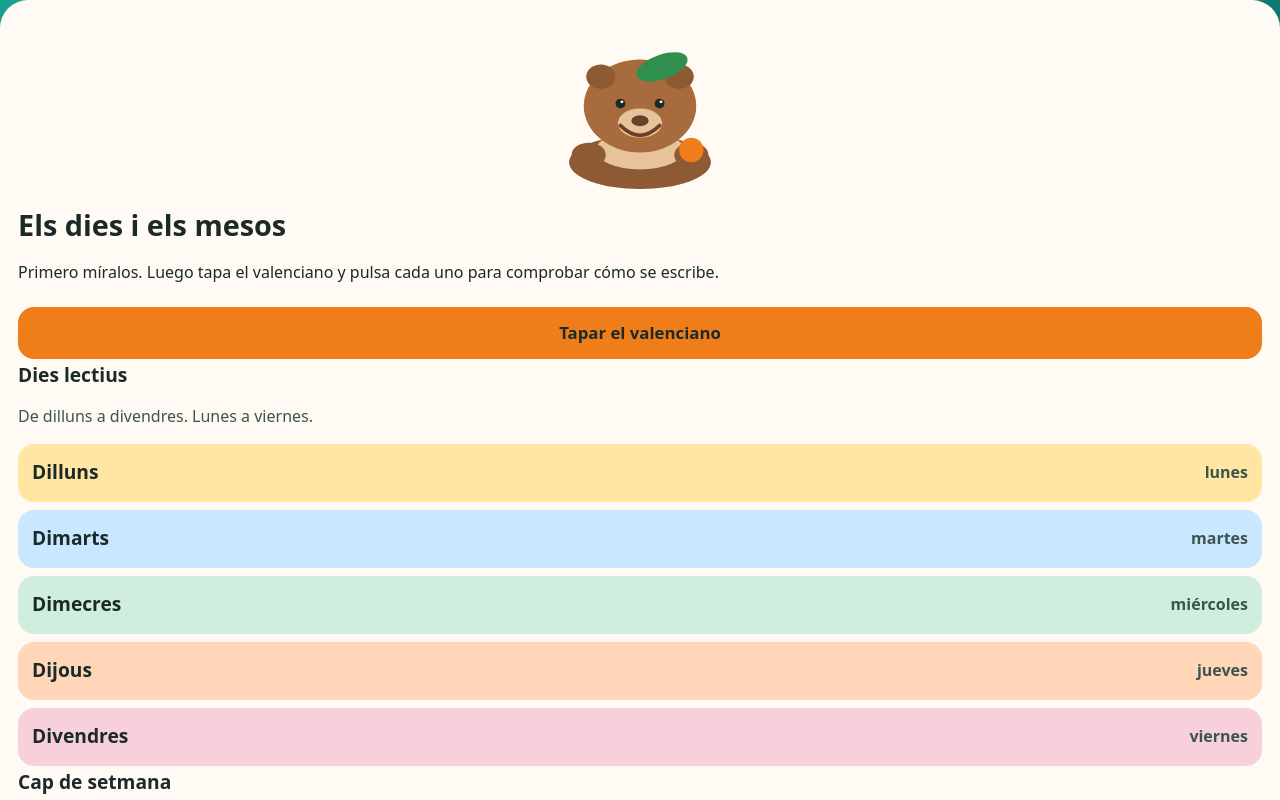
Test case: dies i mesos › tapa el valenciano de la ficha y lo vuelve a enseñar
This screenshot has width=1280, height=800.
Expected: the button "Dilluns lunes" is shown, [18, 444, 1262, 502]
Click the button "Tapar el valenciano".
click(640, 333)  # box [18, 307, 1262, 359]
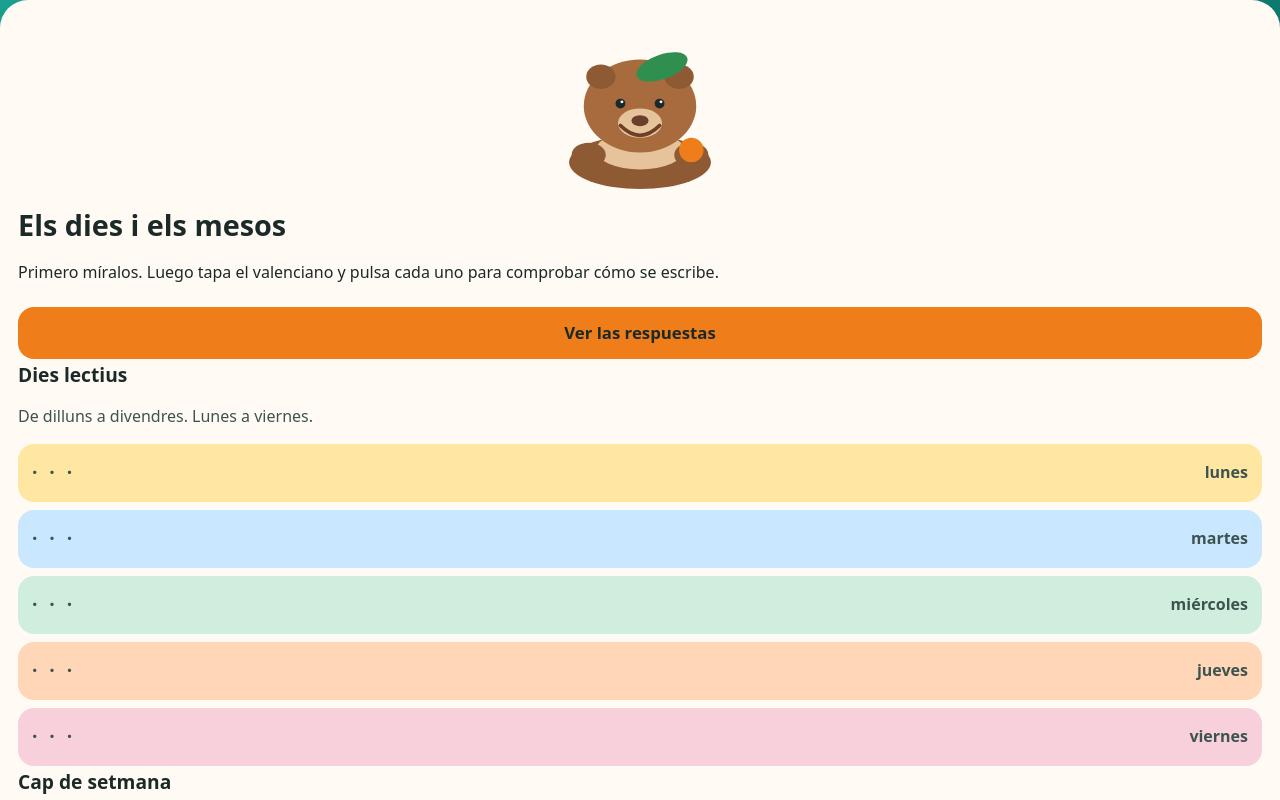
Click the button "· · · lunes".
click(54, 472)  # box [18, 444, 1262, 502]
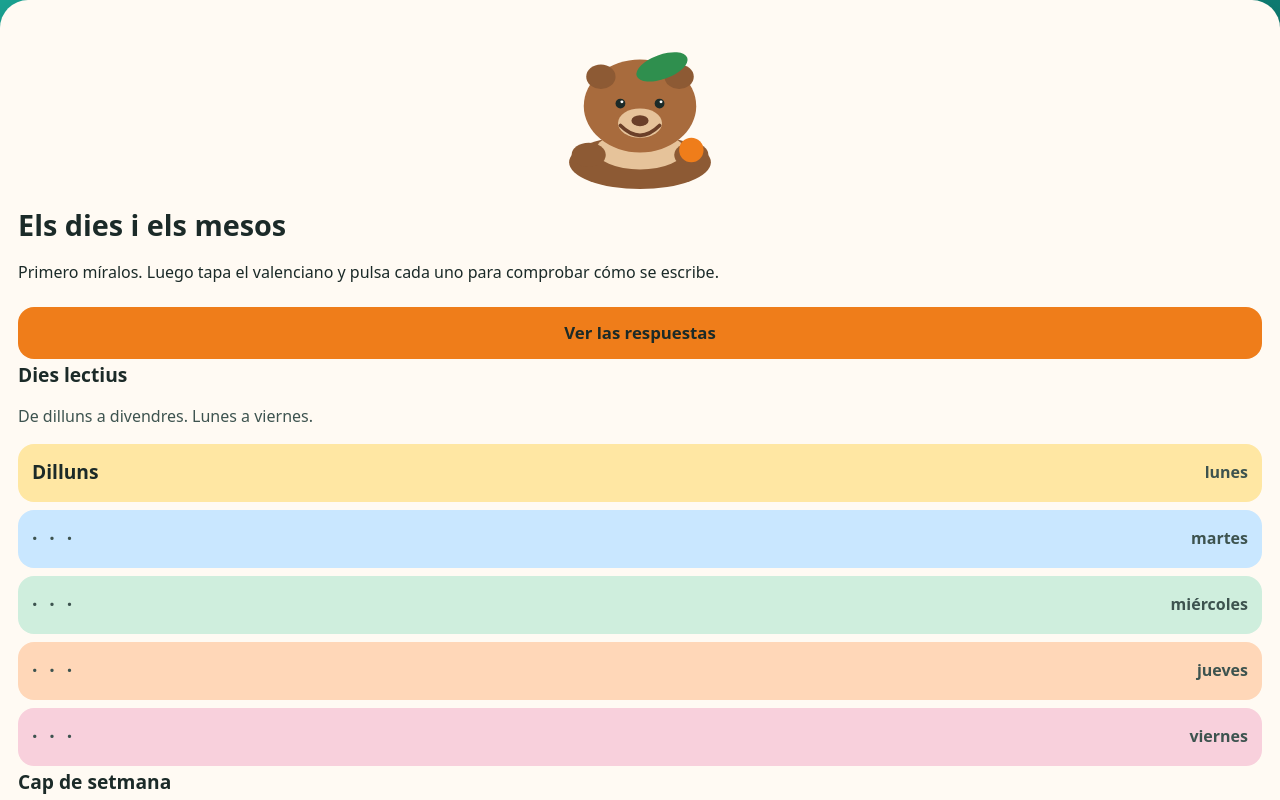
Expected: the button "Dilluns lunes" is shown, [18, 444, 1262, 502]
